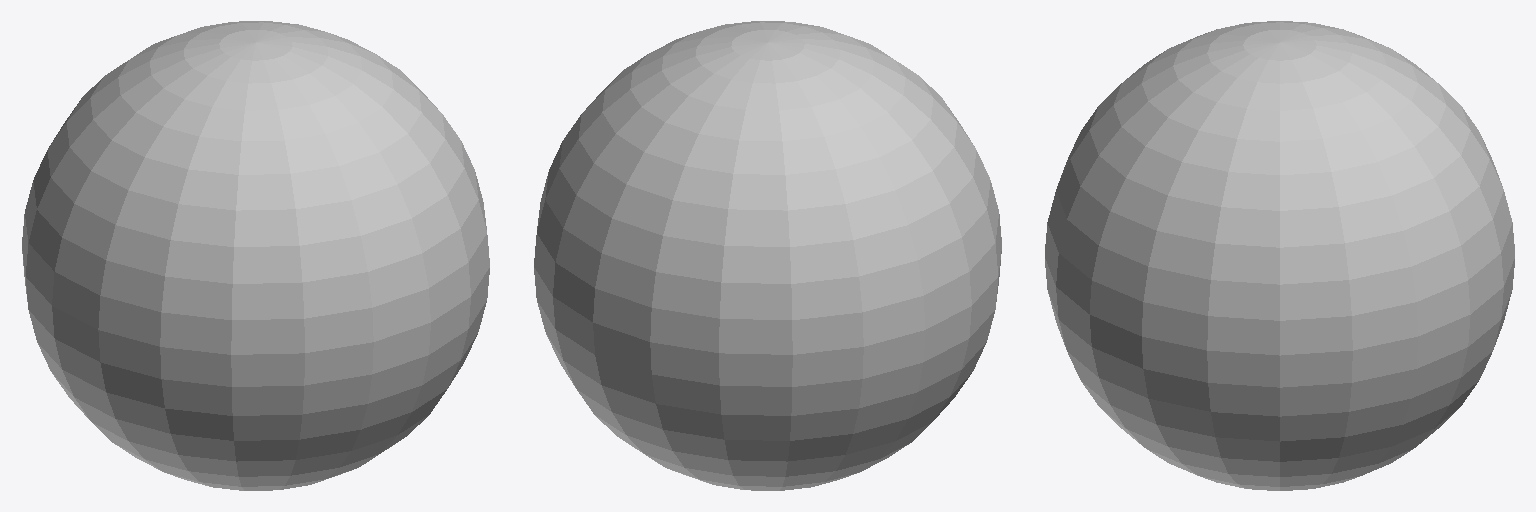
Rendered from lhip.obj.
The picture shows the model from 3 angles: view 1: azimuth 30°, elevation 25°; view 2: azimuth 150°, elevation 25°; view 3: azimuth 270°, elevation 25°; orthographic projection.
Parts seen in each view (by area): view 1: pSphere5; view 2: pSphere5; view 3: pSphere5.
Boxes of the visible parts, box(x1,y1,x2,y2) form: pSphere5: box(22, 21, 489, 490); pSphere5: box(534, 21, 1001, 490); pSphere5: box(1045, 21, 1514, 490).
Size of the model in its own units: 0.8922 by 0.8922 by 0.8922.